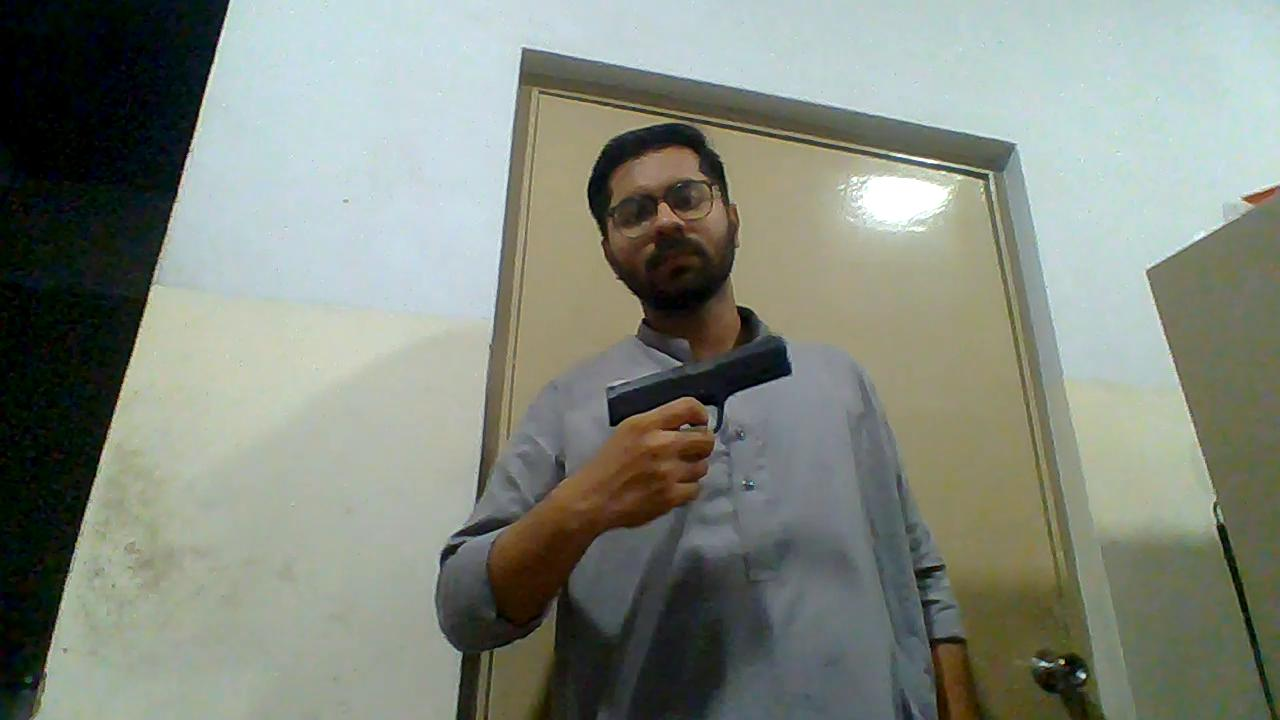criminal: (434, 117, 979, 720)
weapon: (602, 332, 796, 442)
